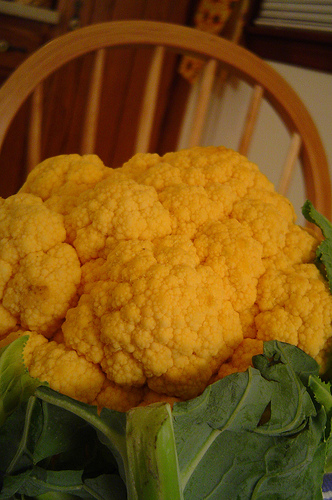cauliflower: (1, 152, 329, 400)
